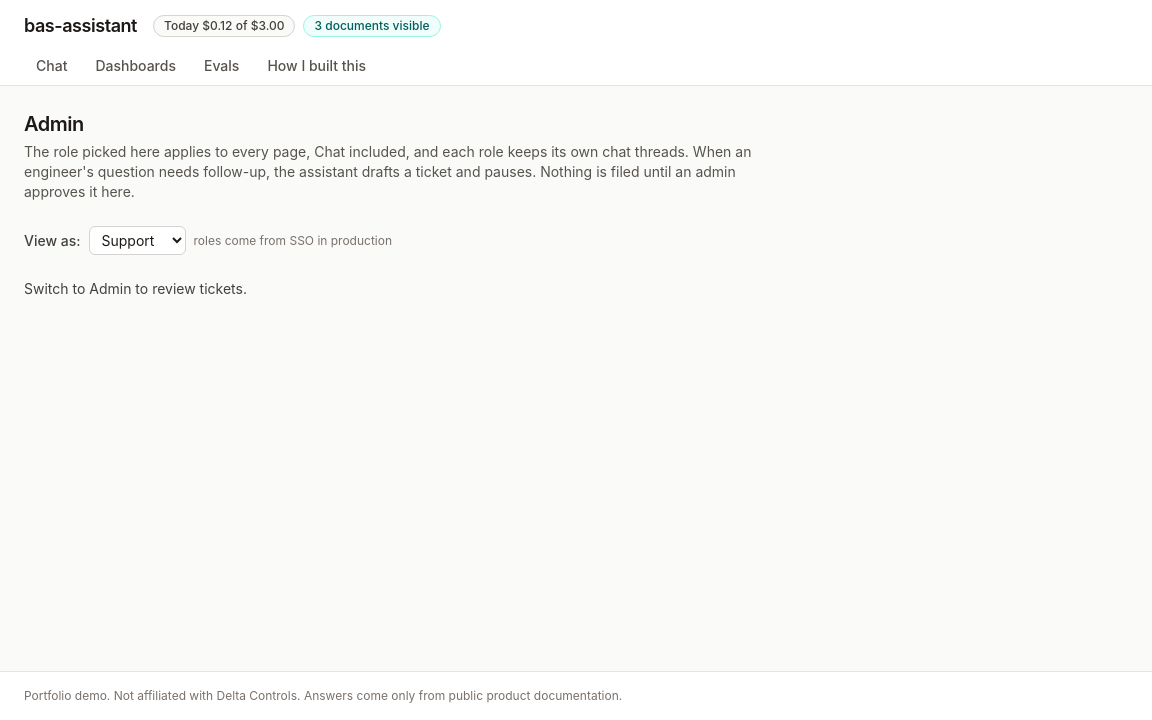
Test: an admin with a token approves a proposed ticket and sees it filed
Select "Admin" in the dropdown labelled "View as:" at [137, 240], box 88,226 -> 186,255
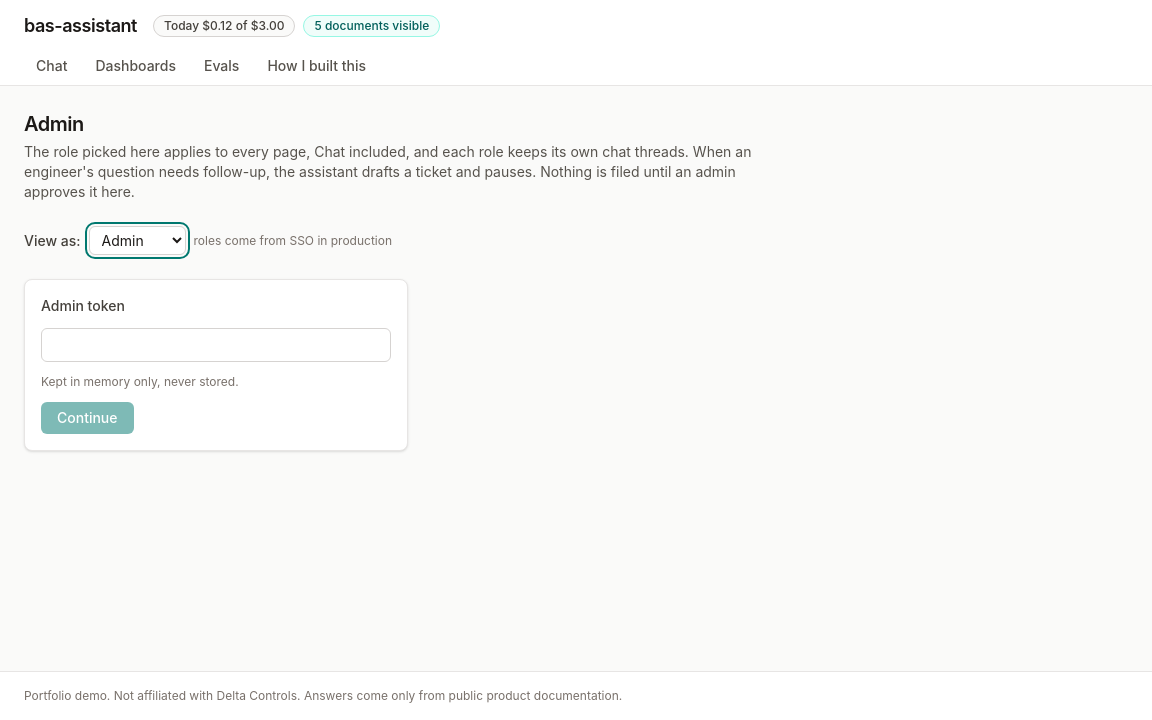
Type "test-admin-token" into the password field labelled "Admin token" at [216, 345], box 41,328 -> 391,362
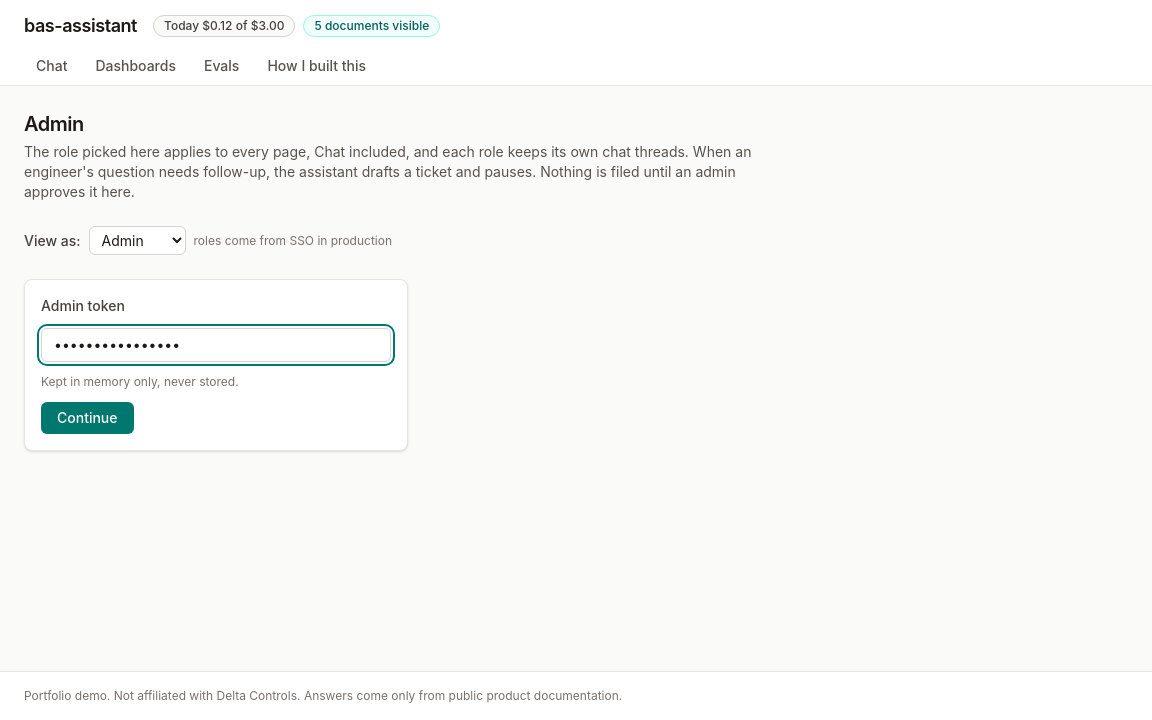
Click the button "Continue" at [87, 418], box 41,402 -> 134,434
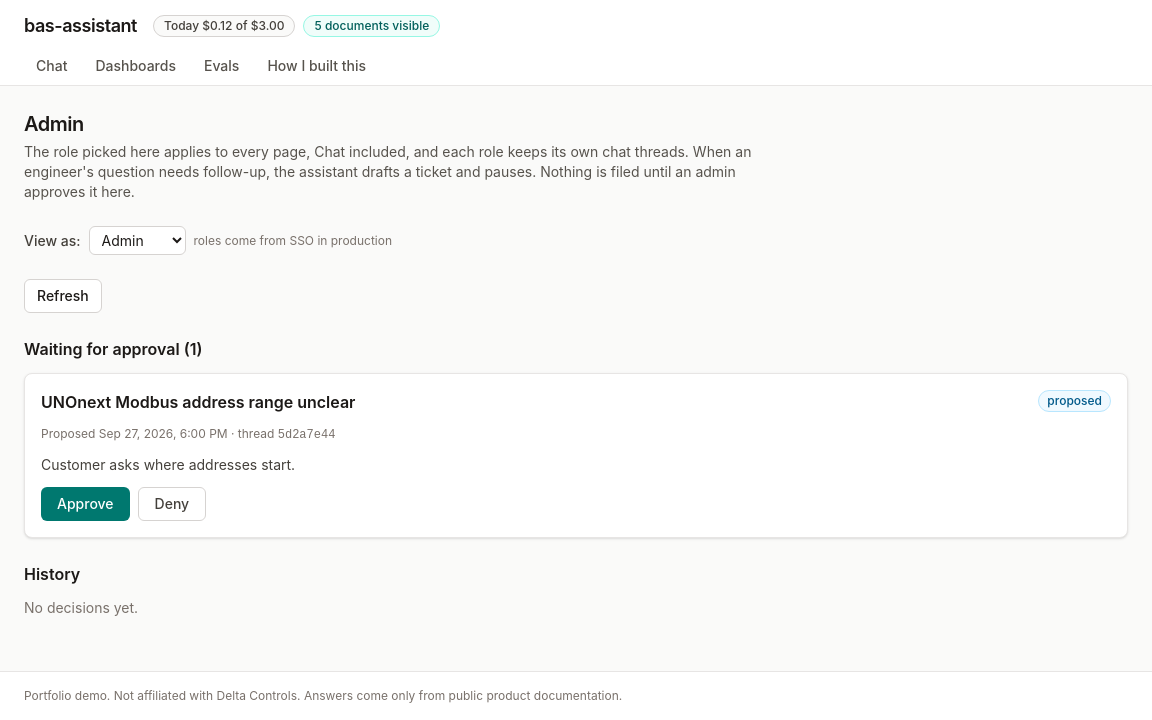
Check: the heading "UNOnext Modbus address range unclear" is shown, box 41,390 -> 355,414
Click the button "Approve" at [85, 504], box 41,487 -> 130,521
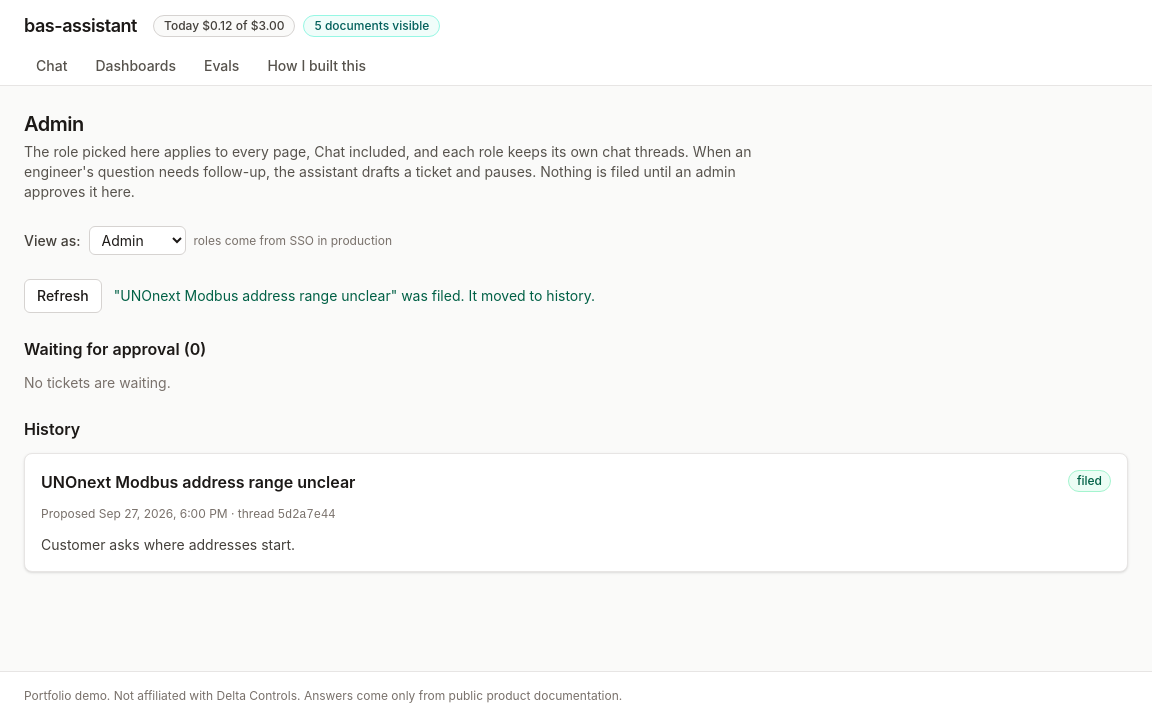
Check: the text "filed" is shown, box 1068,470 -> 1111,492
